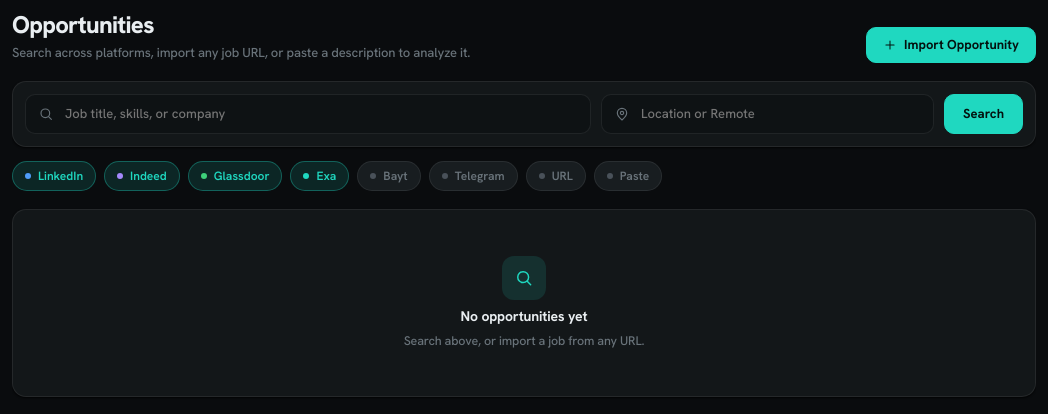
Scenario: JobSearchPage › distinguishes "no results for this search" from "not searched yet" (BUG-008)
The image size is (1048, 414).
Expected: the text "No opportunities yet" is shown, [461,308,587,324]
# Run a search that returns nothing.
Type "unobtanium" into the field named "job title or keywords" at (320, 114), box [63,104,578,123]
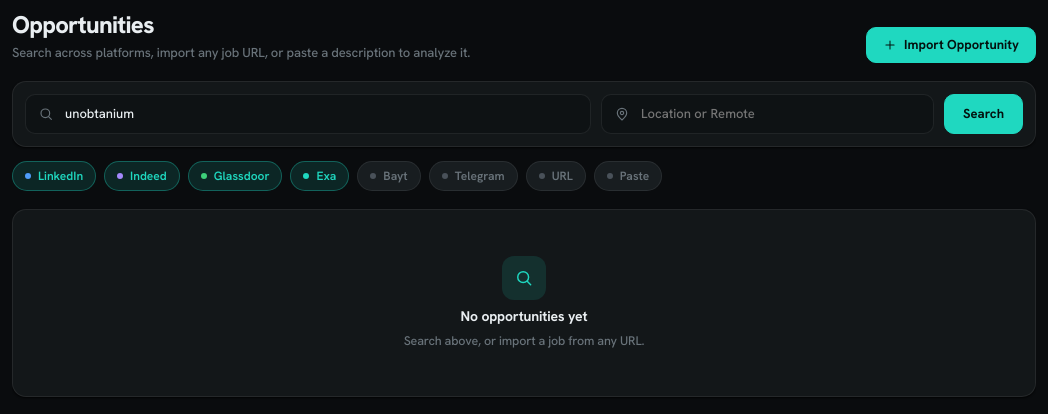
Click the button "Search" at (984, 114), box [944,94,1023,134]
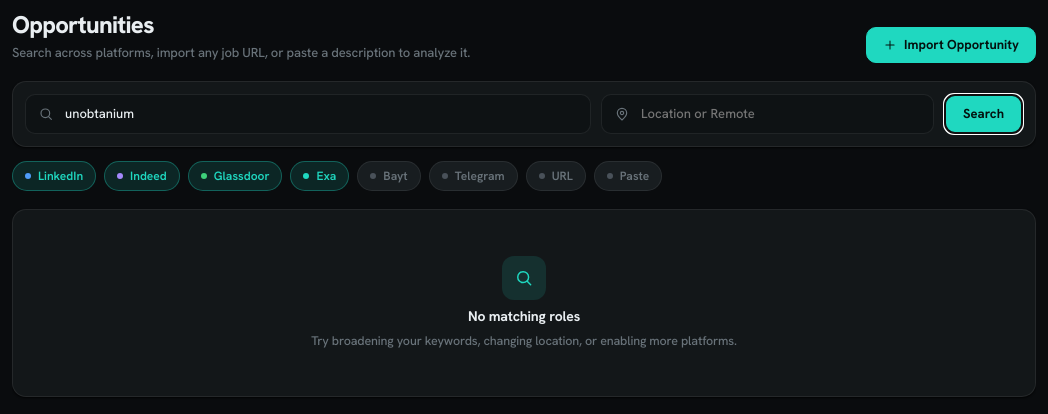
Now the text "No matching roles" is shown, box [468,308,580,324]
Now the text "No opportunities yet" is gone
